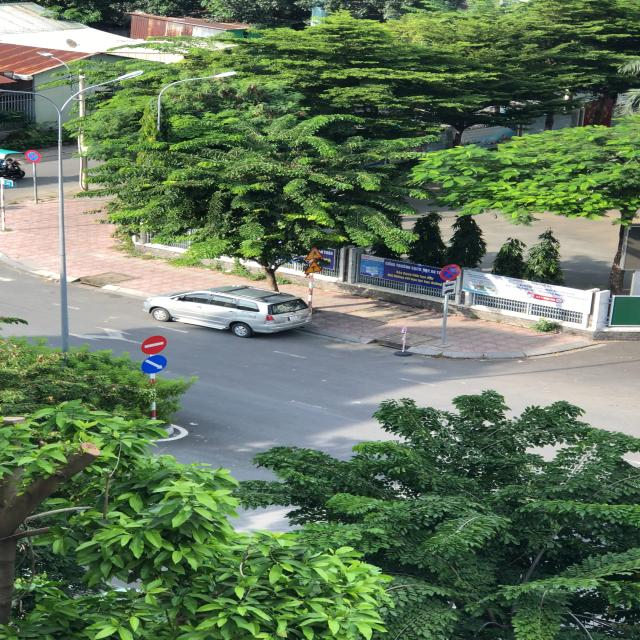Bien bao cam di nguoc chieu: (139, 332, 171, 356)
Bien bao cam dung xe va do xe: (438, 262, 461, 282)
Bien bao duong giao nhau: (302, 259, 326, 274)
Bien bao duong nguoi di bo cat ngang: (304, 246, 326, 261)
Bien bao huong phai di vong chuong ngai vat: (139, 354, 170, 375)
